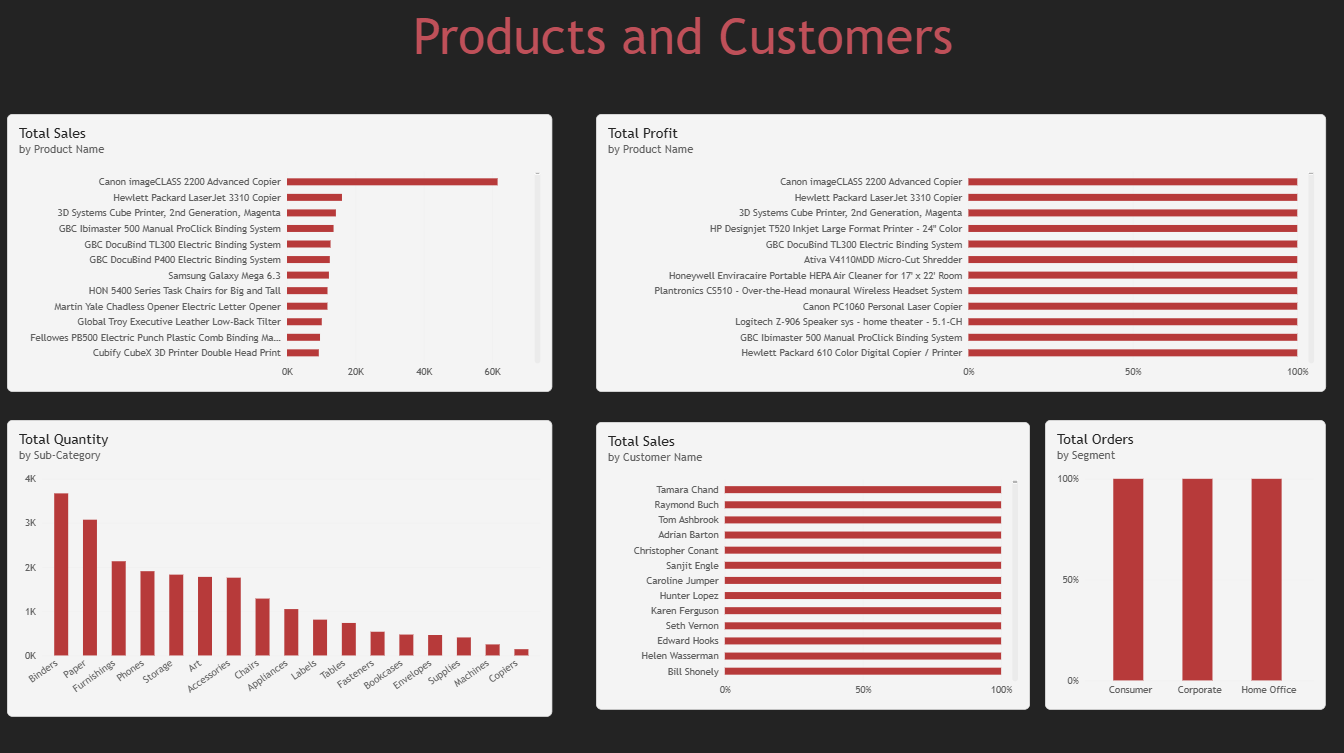

This screenshot's page, from the dashboard's own definition file:
{"tool":"powerbi","page":{"name":"Products and Customers","canvas":[1920,1080],"ordinal":2},"visuals":[{"type":"barChart","fields":{"Category":["Table1.Product Name"],"Y":["Table1.Total Sales"]},"box":[10.4,164.3,778.9,397.2],"z":0},{"type":"hundredPercentStackedBarChart","fields":{"Category":["Table1.Product Name"],"Y":["Table1.Total Profit"]},"box":[851.3,164.3,1042.8,397.2],"z":1000},{"type":"clusteredColumnChart","fields":{"Category":["Table1.Sub-Category"],"Y":["Table1.Total Quantity"]},"box":[10.4,601.6,778.9,424.4],"z":2000},{"type":"hundredPercentStackedBarChart","fields":{"Category":["Table1.Customer Name"],"Y":["Table1.Total Sales"]},"box":[851.3,604.2,619.7,411.4],"z":2001},{"type":"hundredPercentStackedColumnChart","fields":{"Category":["Table1.Segment"],"Y":["Table1.Total Orders"]},"box":[1493,601.6,401.1,414],"z":2002},{"type":"textbox","box":[590,10.4,813.8,115.1],"z":2003}]}

Visuals, with their boxes in screenshot pixels (x1, y1, x2, y2), scaled from the page's 1920x1080 canvas onto the 1344x753 screenshot:
barChart - Table1.Product Name x Table1.Total Sales: 7, 115, 553, 391
hundredPercentStackedBarChart - Table1.Product Name x Table1.Total Profit: 596, 115, 1326, 391
clusteredColumnChart - Table1.Sub-Category x Table1.Total Quantity: 7, 419, 553, 715
hundredPercentStackedBarChart - Table1.Customer Name x Table1.Total Sales: 596, 421, 1030, 708
hundredPercentStackedColumnChart - Table1.Segment x Table1.Total Orders: 1045, 419, 1326, 708
textbox: 413, 7, 983, 88
